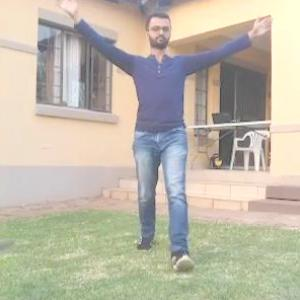takeoff: (70, 0, 287, 273)
